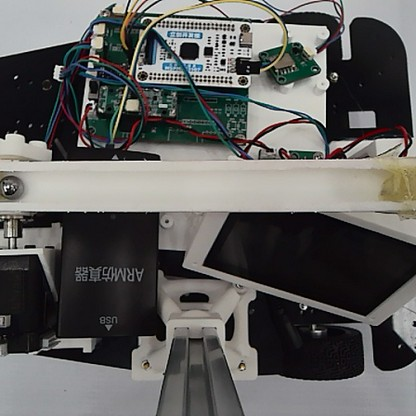ironball: (0, 170, 25, 201)
